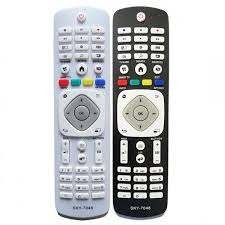remote control: (50, 8, 112, 222), (114, 8, 175, 224)
